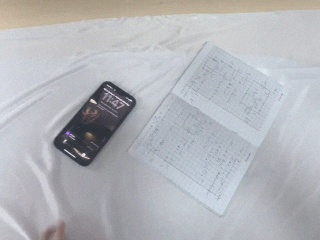phone: (53, 81, 136, 167)
